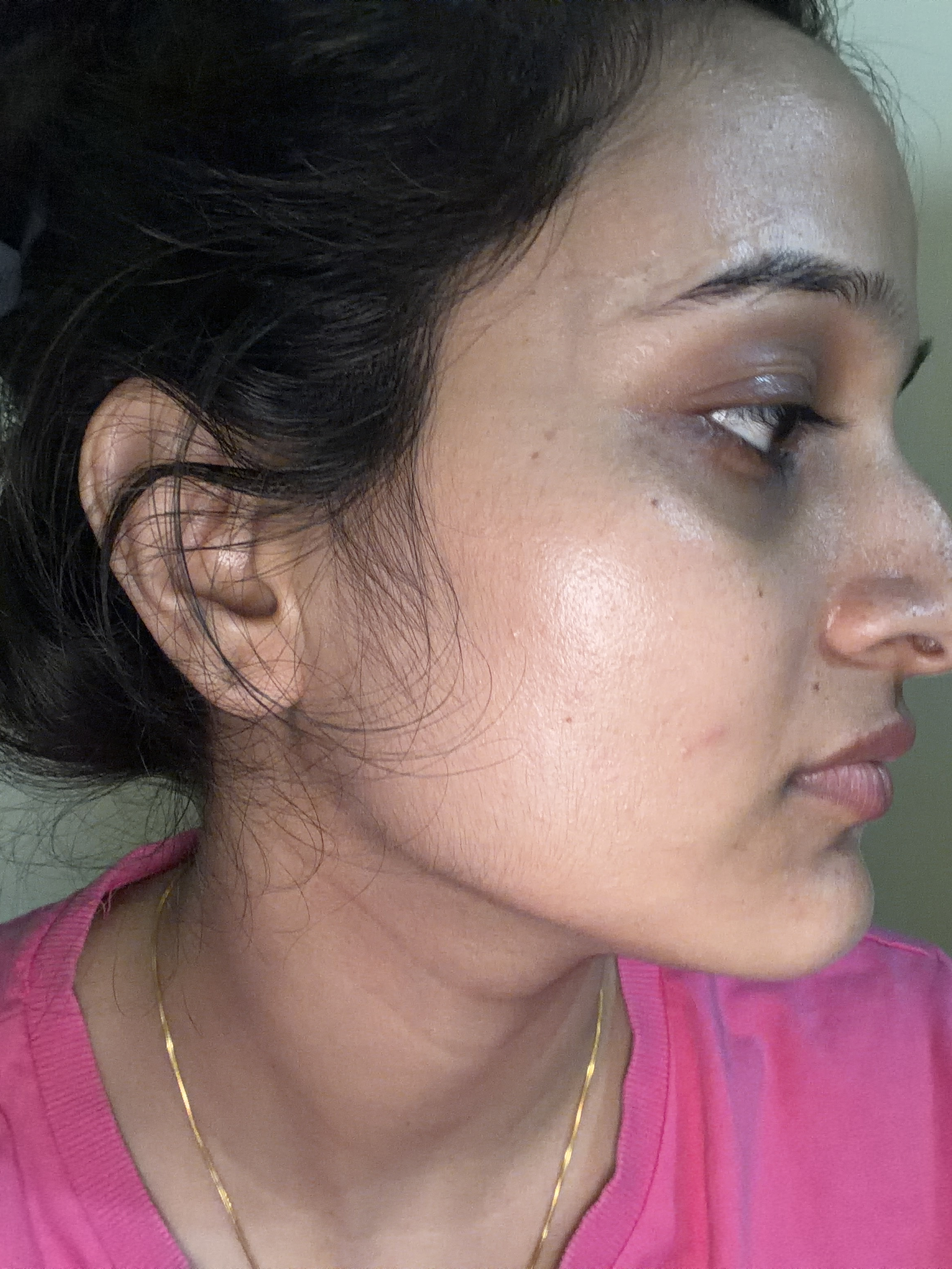closed_comedone: (501, 626, 523, 647)
macrocomedone: (679, 743, 699, 764)
papule: (702, 721, 725, 745)
